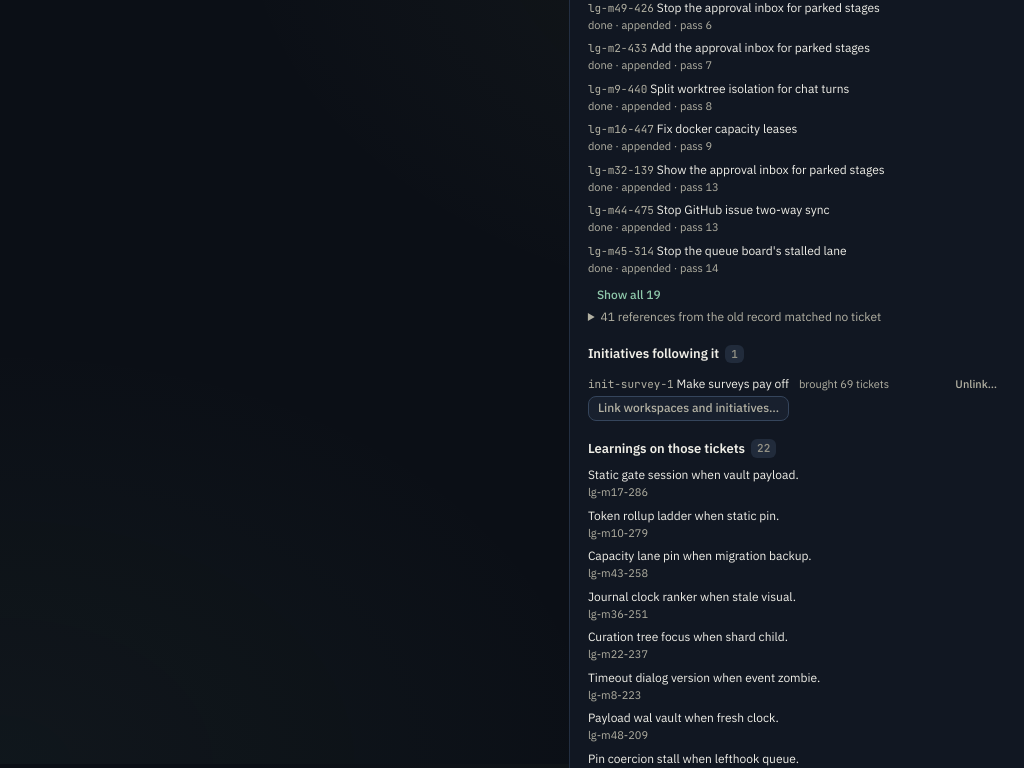
Test: initiatives following a source › asks before unlinking, saying what will leave, and reports what did
(page scrolled)
What coordinates should you click on to do the following:
click the button with aria-label "Unlink init-survey-1"
I would click on:
 (976, 384)
Its box is [946,372,1006,396].
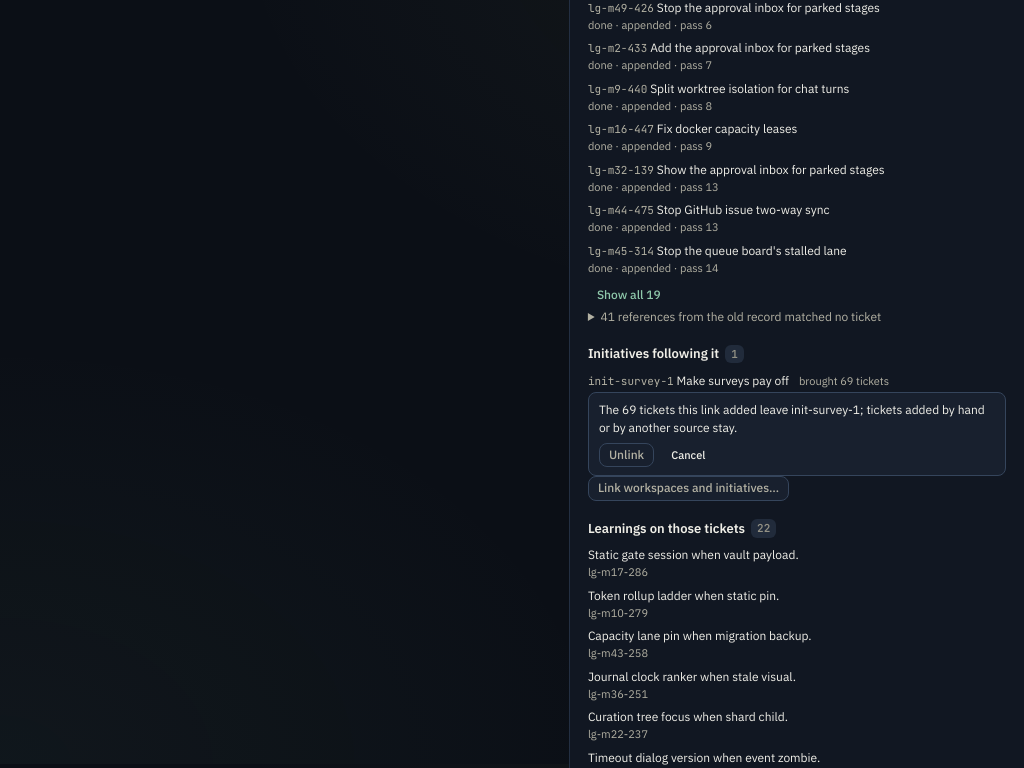
Check: the element named "Unlink init-survey-1?" shows "The 69 tickets this link added leave init-survey-1", box [588,392,1006,476]
What coordinates should you click on to do the following:
click the button "Unlink"
I would click on:
 (627, 455)
Its box is [599,443,654,467].
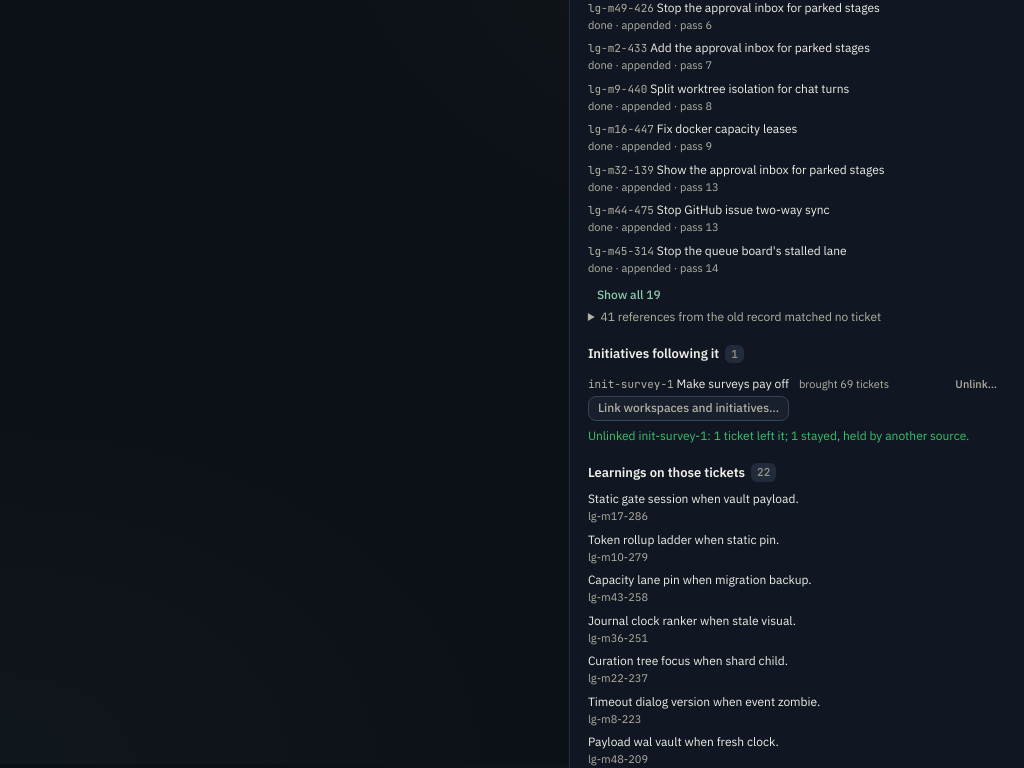
Check: the message reads "Unlinked init-survey-1: 1 ticket left it; 1 stayed, held by another source.", box [588,428,969,443]
